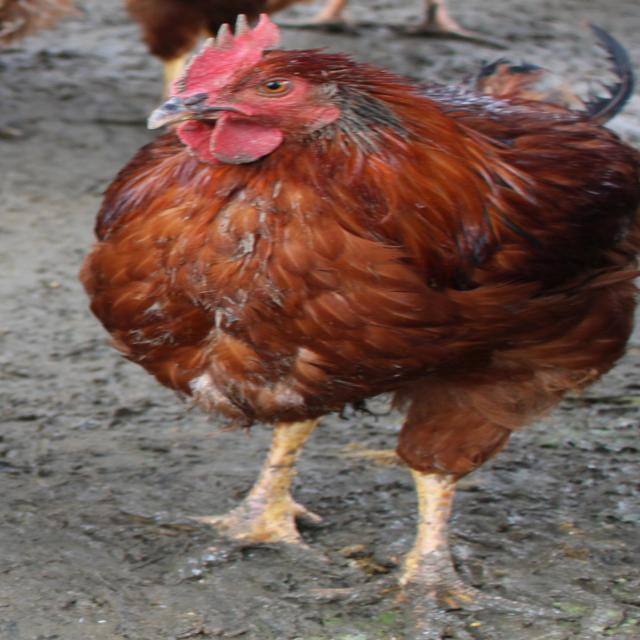cook: (81, 15, 638, 640)
